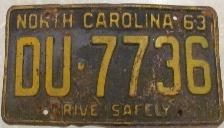3: (153, 33, 184, 96)
6: (185, 33, 213, 96)
7: (120, 33, 152, 97), (90, 30, 119, 100)
D: (14, 34, 43, 98)
U: (45, 34, 75, 98)
